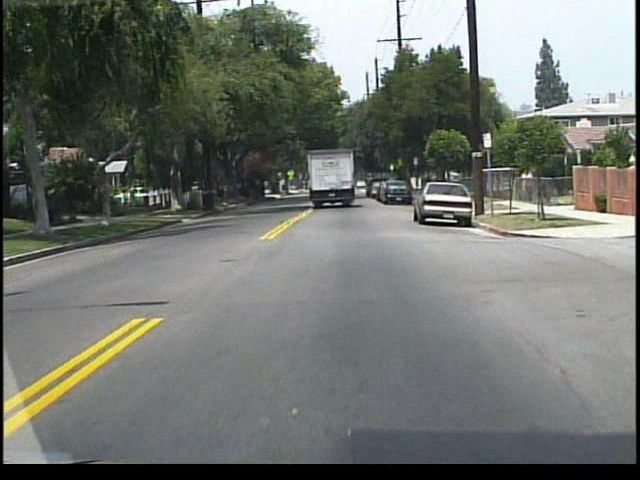person: (518, 164, 534, 201)
